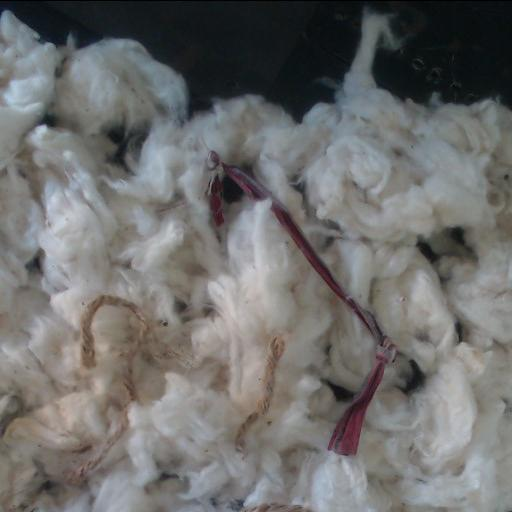cloth: (209, 151, 398, 455), (209, 175, 222, 224)
conveyor belt: (0, 1, 511, 117), (110, 128, 143, 164), (401, 361, 423, 392), (328, 382, 351, 400), (224, 178, 241, 201), (417, 243, 438, 261)
cotton: (0, 7, 511, 512)
jute: (67, 296, 149, 480), (236, 336, 283, 448), (239, 503, 309, 512)
